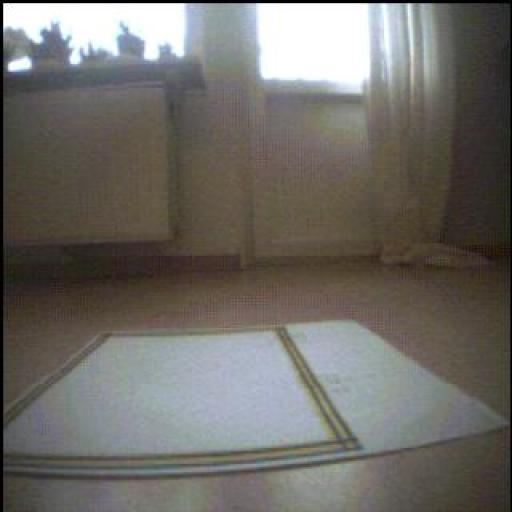Pad: (4, 323, 508, 478)
